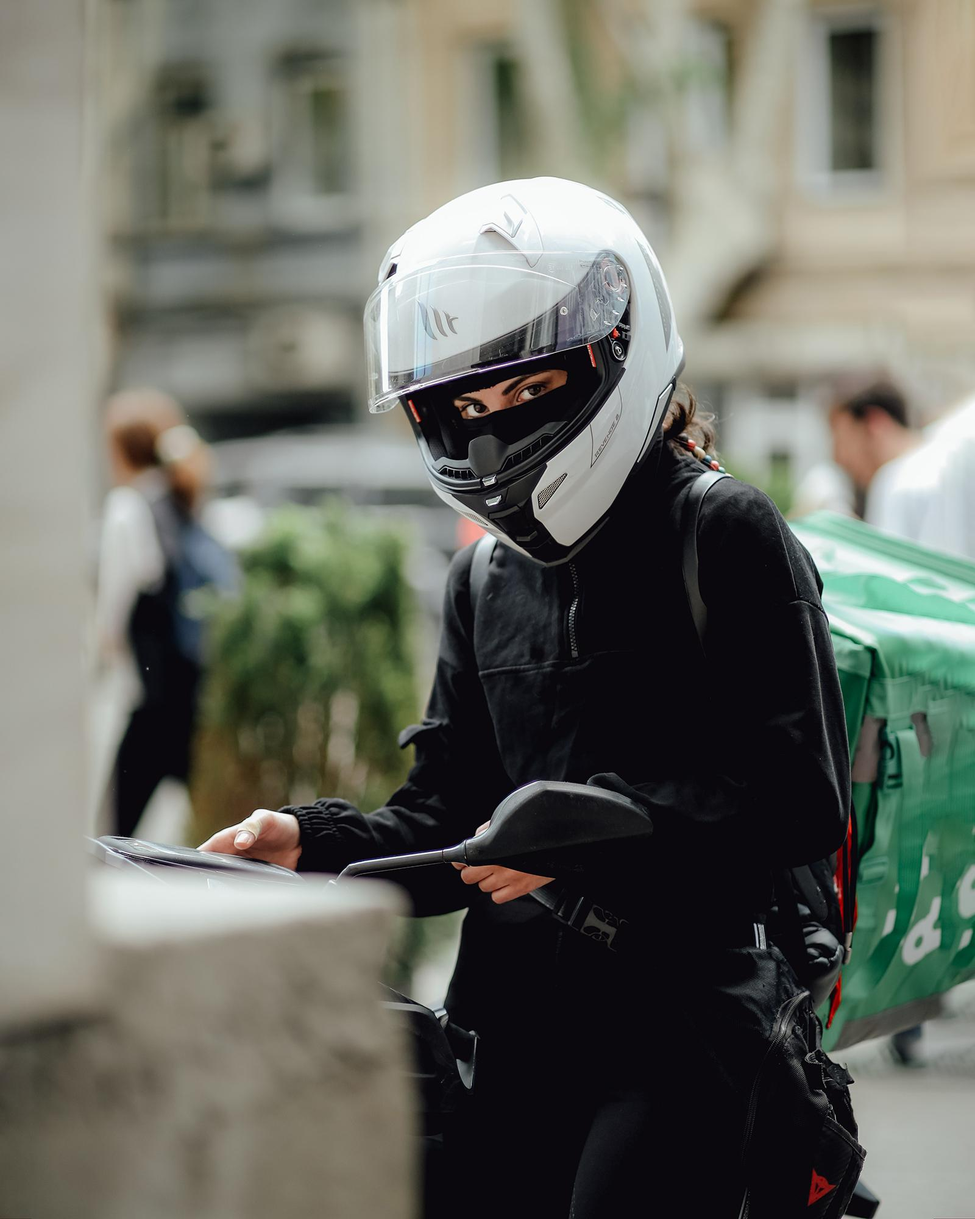helmet: (361, 174, 688, 571)
